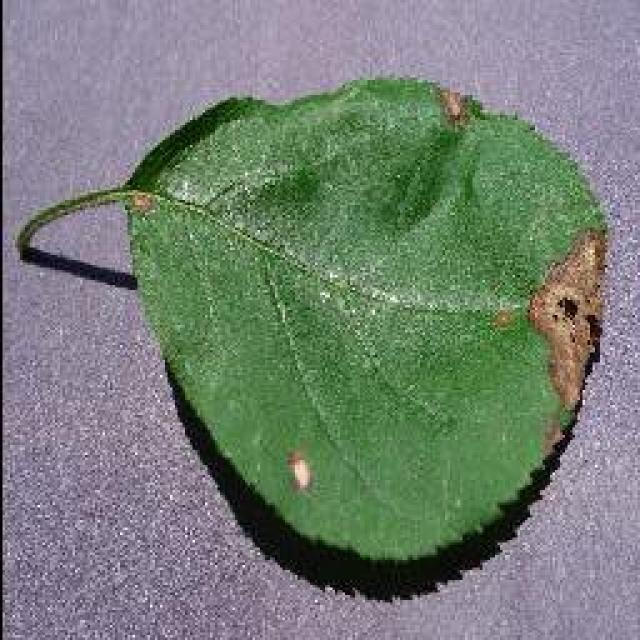Black_rot: (15, 72, 610, 578)
